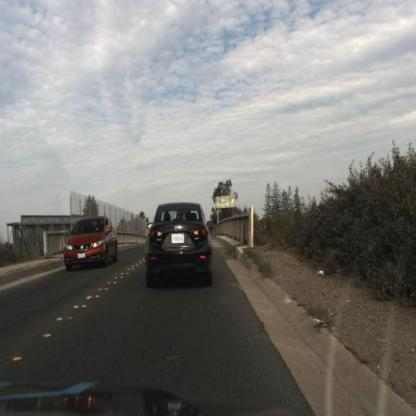car: (139, 198, 217, 296), (60, 212, 126, 282)
